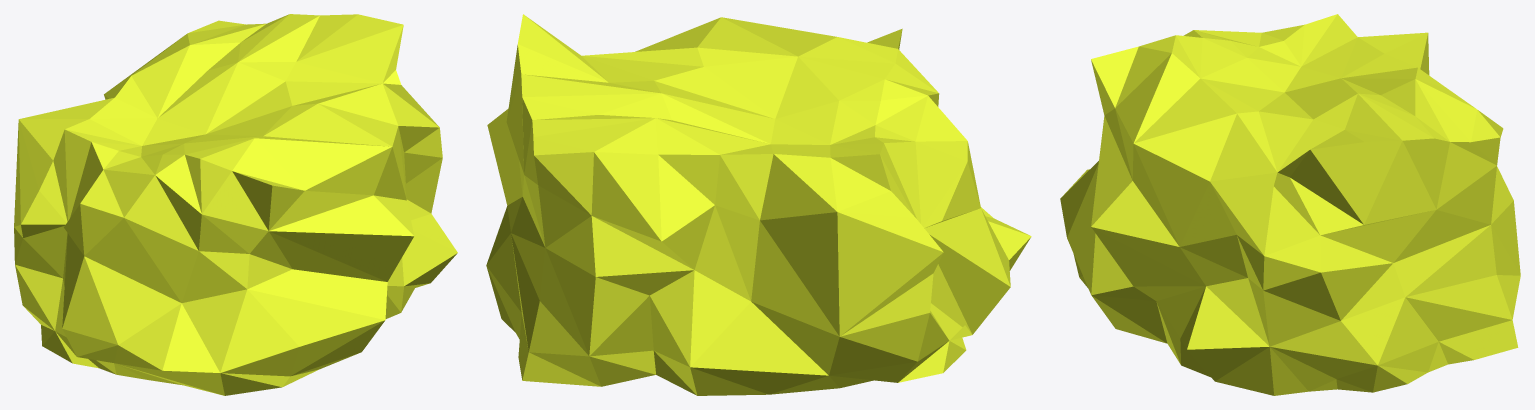
File: CoralRock_2.fbx
The picture shows the model from 3 angles, left to right: view 1: azimuth 30°, elevation 25°; view 2: azimuth 150°, elevation 25°; view 3: azimuth 270°, elevation 25°; orthographic projection. The views are drawn at different scales.
Parts seen in each view (by area): view 1: CoralRock_2; view 2: CoralRock_2; view 3: CoralRock_2.
Part boxes in pixels (x1=…): CoralRock_2: x1=14, y1=14, x2=457, y2=395; CoralRock_2: x1=486, y1=14, x2=1031, y2=395; CoralRock_2: x1=1060, y1=14, x2=1520, y2=395.
Bounding box in the file's own units: 8612 × 4594 × 7694.
